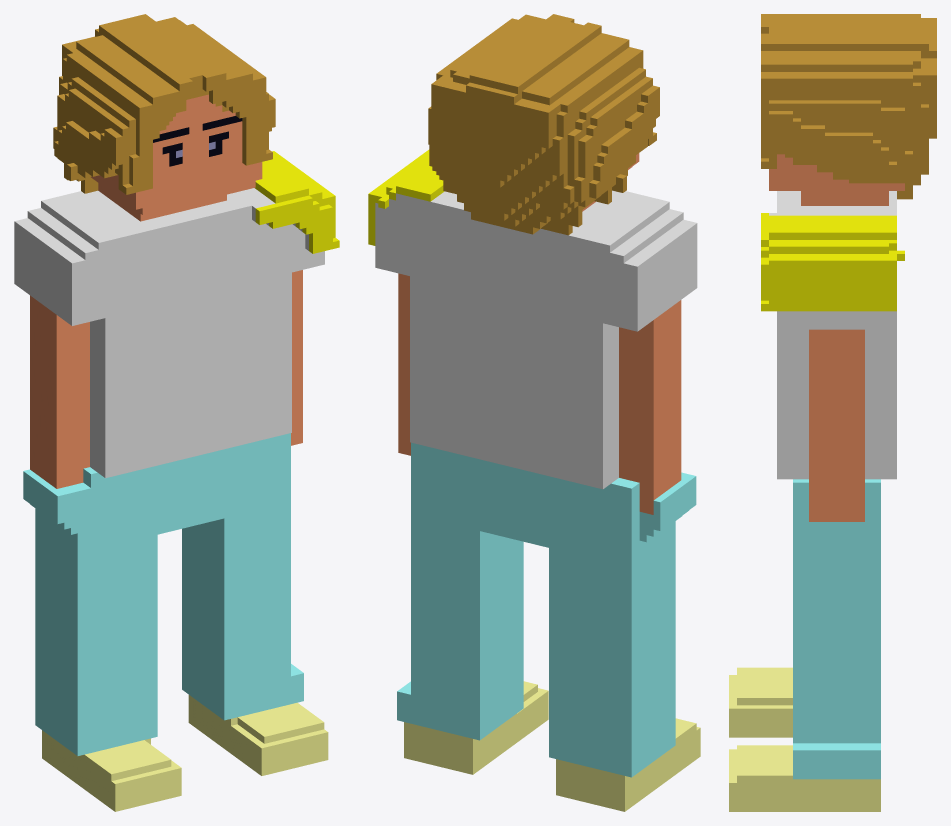
Rendered from dog2.glb.
3 renders of one model, left to right at view 1: azimuth 30°, elevation 25°; view 2: azimuth 150°, elevation 25°; view 3: azimuth 270°, elevation 25°, orthographic. The views are drawn at different scales.
Visible parts, largest first — view 1: big me; view 2: big me; view 3: big me.
Part boxes in pixels (x1,y1,x2,y2): big me: (14,14,339,811); big me: (368,14,700,811); big me: (729,14,936,811).
Size of the model in its own units: 1.6 by 4.01 by 1.04.
Materials: 1 (1 with a texture image).
